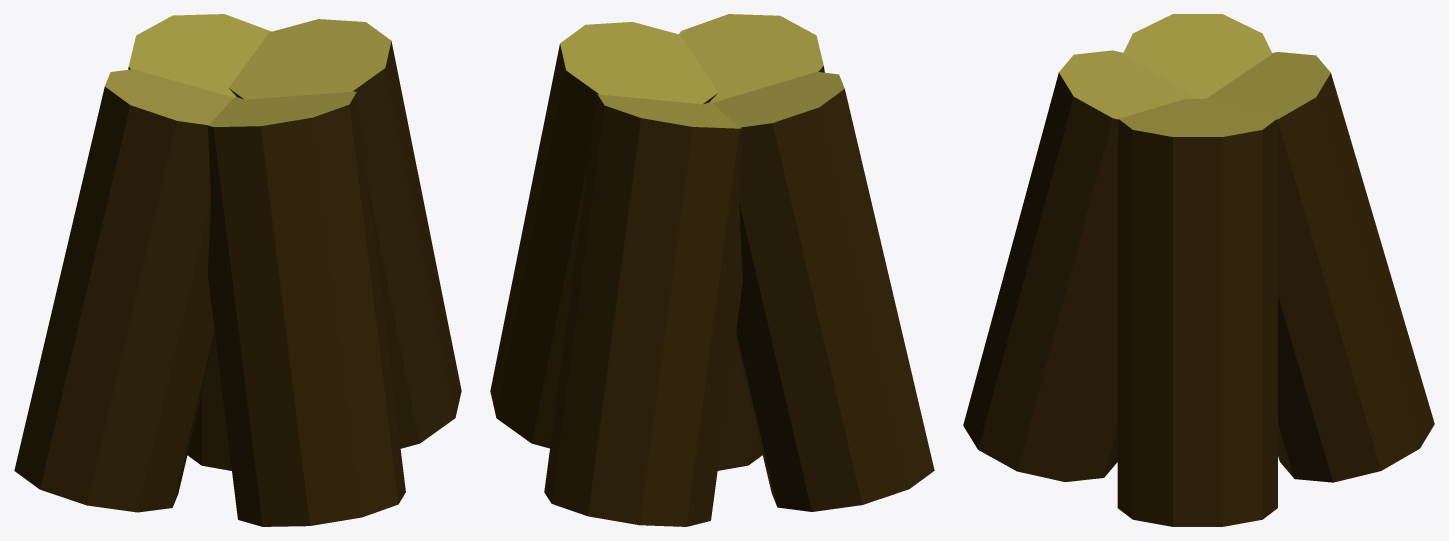
File: campfire.glb
3 renders of one model, left to right at view 1: azimuth 30°, elevation 25°; view 2: azimuth 150°, elevation 25°; view 3: azimuth 270°, elevation 25°, orthographic. The views are drawn at different scales.
Parts seen in each view (by area): view 1: Campfire; view 2: Campfire; view 3: Campfire.
Part boxes in pixels (<box>): Campfire: <box>14,14,461,526</box>; Campfire: <box>490,14,934,526</box>; Campfire: <box>963,14,1434,526</box>.
Size of the model in its own units: 0.5892 by 0.5358 by 0.5877.
